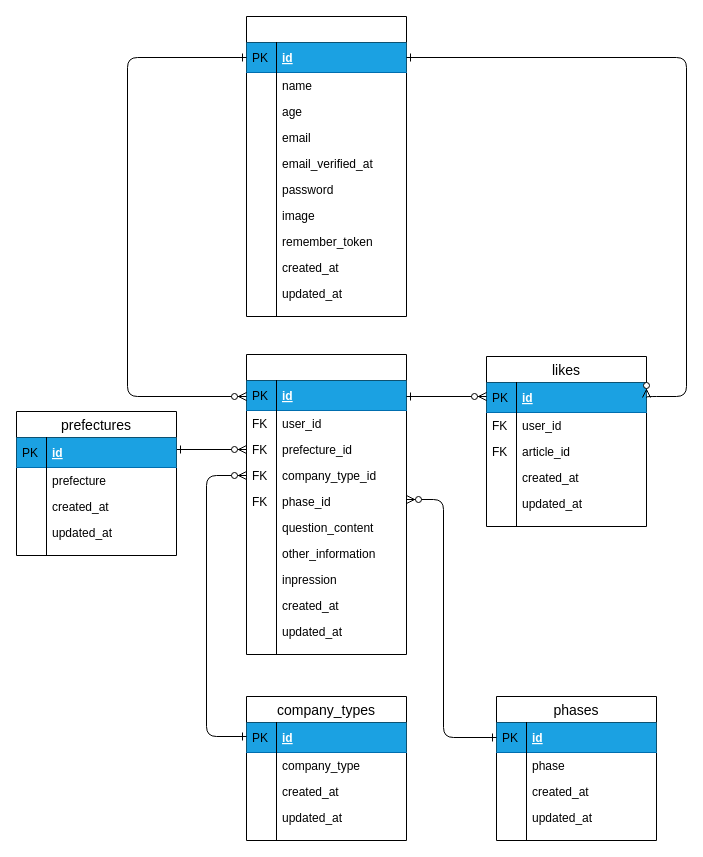
Some shapes in this 703 by 857 pixel diagram are drawn without their labels. Each missing label, with the box of its shape:
articles: (246, 354, 406, 654)
users: (246, 16, 406, 316)
